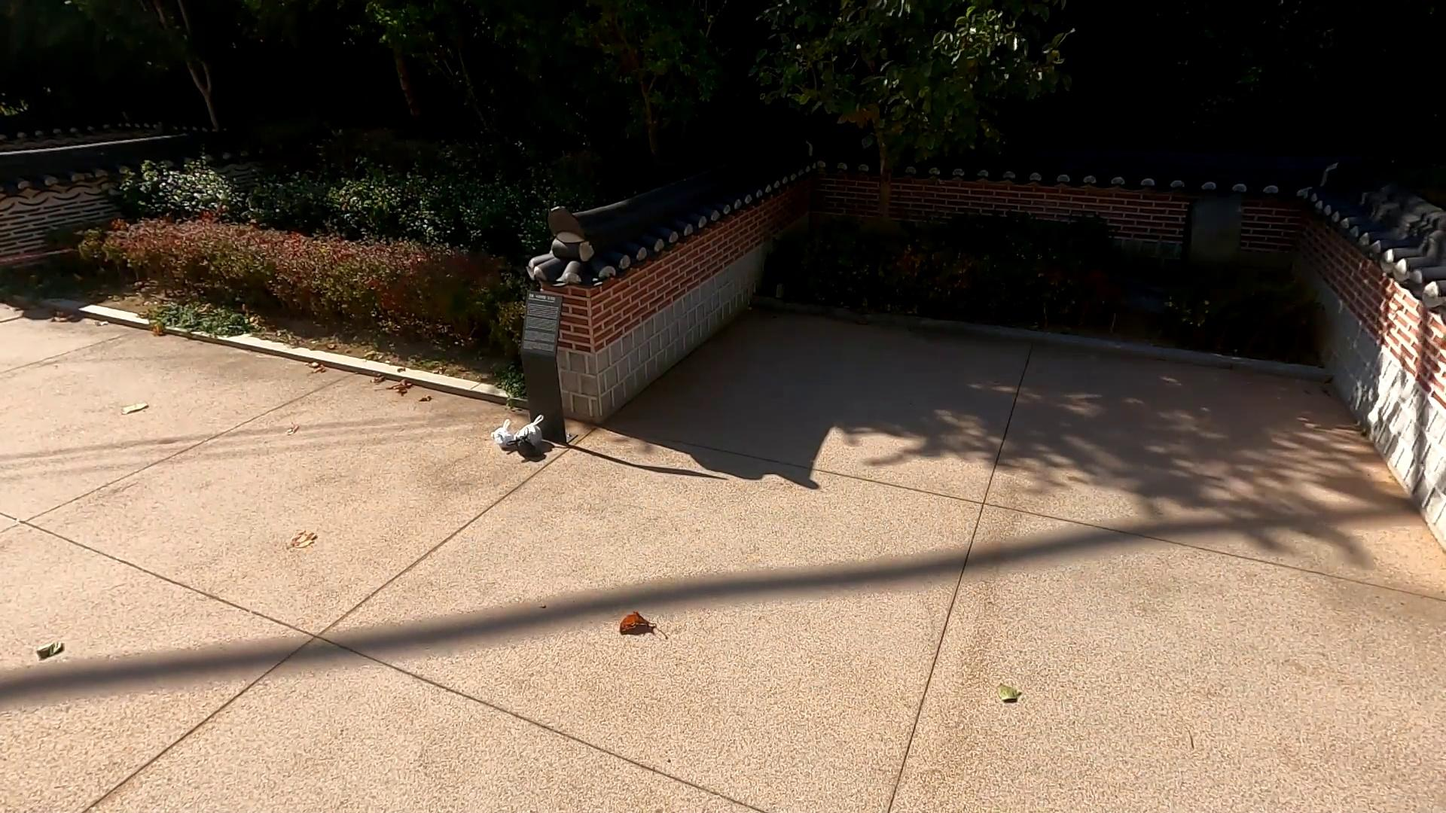trash: (513, 415, 546, 448), (506, 430, 541, 459), (488, 418, 516, 452)
